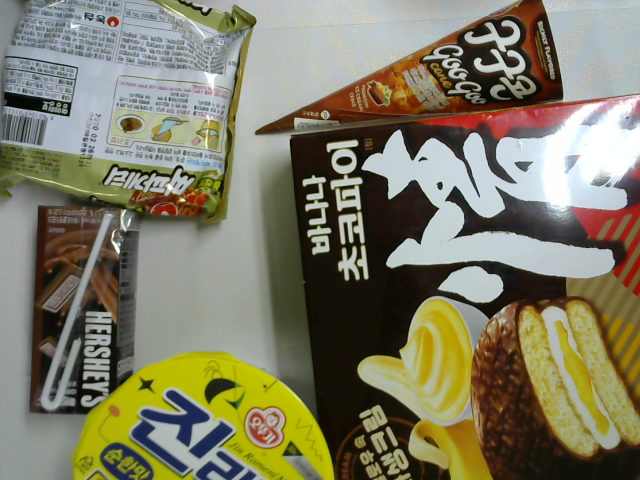Choco_Pie_Banana: (289, 95, 640, 480)
GooGoo_Cone_CVS: (253, 1, 563, 137)
Hush_Choco_Drink: (27, 204, 141, 421)
Jinlamyeon_Mild_Taste_Large_Cup: (70, 350, 335, 480)
Olive_Chapaghetti: (1, 1, 257, 225)
